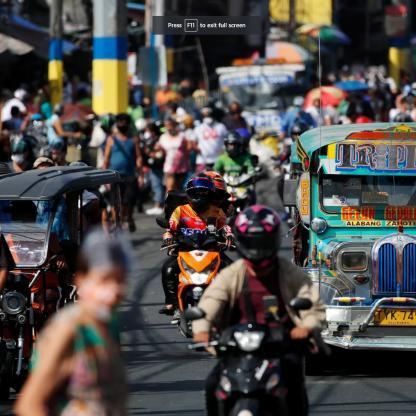helmet: (233, 205, 282, 270), (183, 173, 216, 213), (223, 131, 243, 157)
